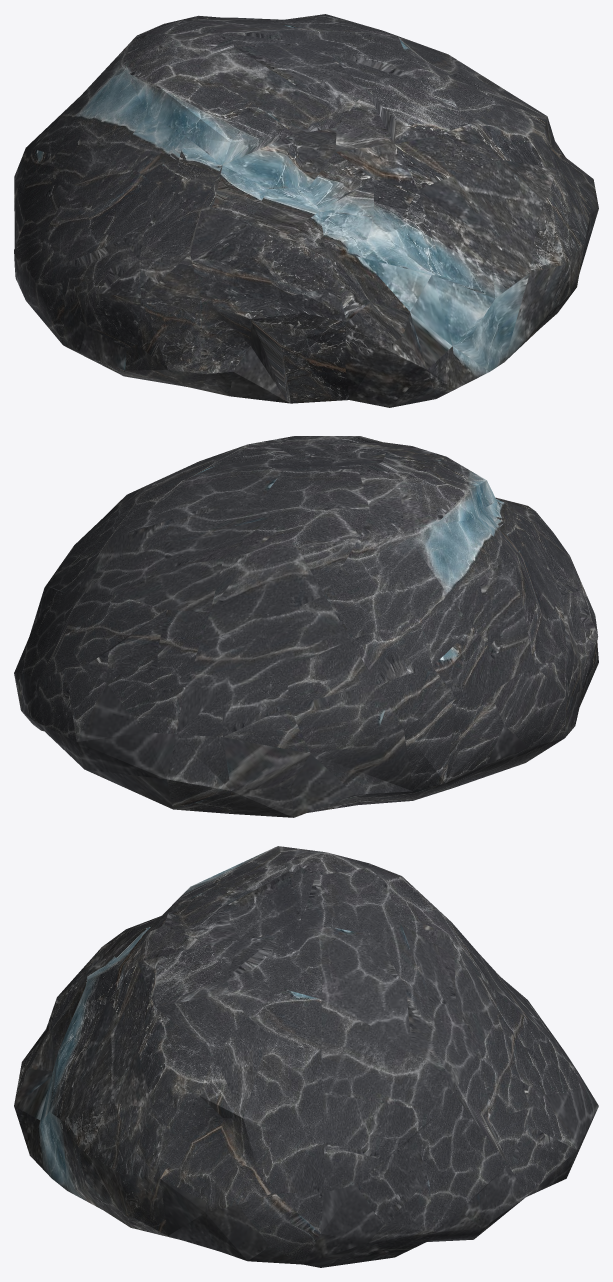
The model's file is fc_iceveined_slate_boulder_lod1.glb.
The picture shows the model from 3 angles, top to bottom: view 1: azimuth 30°, elevation 25°; view 2: azimuth 150°, elevation 25°; view 3: azimuth 270°, elevation 25°; orthographic projection. The views are drawn at different scales.
Parts seen in each view (by area): view 1: mesh; view 2: mesh; view 3: mesh.
Part boxes in pixels (x1,y1,x2,y2): mesh: (14, 14, 598, 407); mesh: (14, 436, 598, 817); mesh: (14, 846, 598, 1267).
Bounding box in the file's own units: 1.86 × 0.9018 × 1.89.
1 material, 1 textured.
